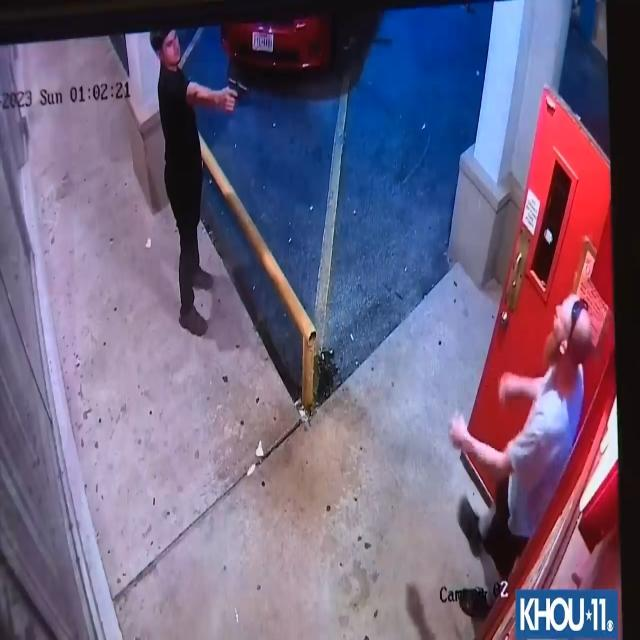Gun_Holder: (220, 68, 254, 119)
Person: (446, 290, 601, 608), (146, 23, 236, 344)
